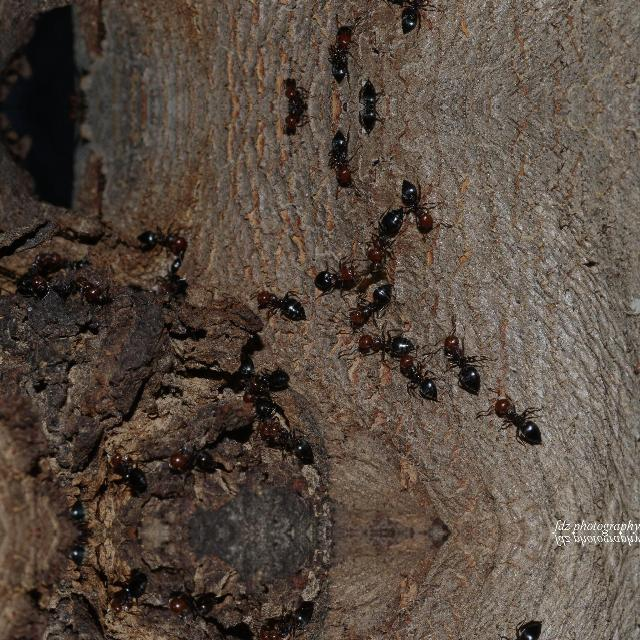Crematogaster: (398, 170, 447, 236), (322, 127, 360, 203), (322, 9, 360, 85), (366, 200, 404, 268), (442, 331, 483, 394), (274, 418, 324, 468), (348, 276, 394, 330), (491, 397, 542, 445), (273, 597, 324, 640), (166, 437, 218, 478), (55, 264, 105, 306), (166, 588, 218, 628), (397, 0, 446, 42), (257, 281, 311, 319), (345, 326, 413, 356), (108, 445, 146, 495), (108, 570, 146, 620), (398, 353, 439, 399), (137, 224, 190, 252), (266, 105, 310, 136), (316, 258, 356, 292), (266, 76, 310, 106), (490, 620, 541, 640), (252, 394, 272, 444), (351, 106, 384, 132), (351, 80, 384, 106), (252, 620, 272, 640)
